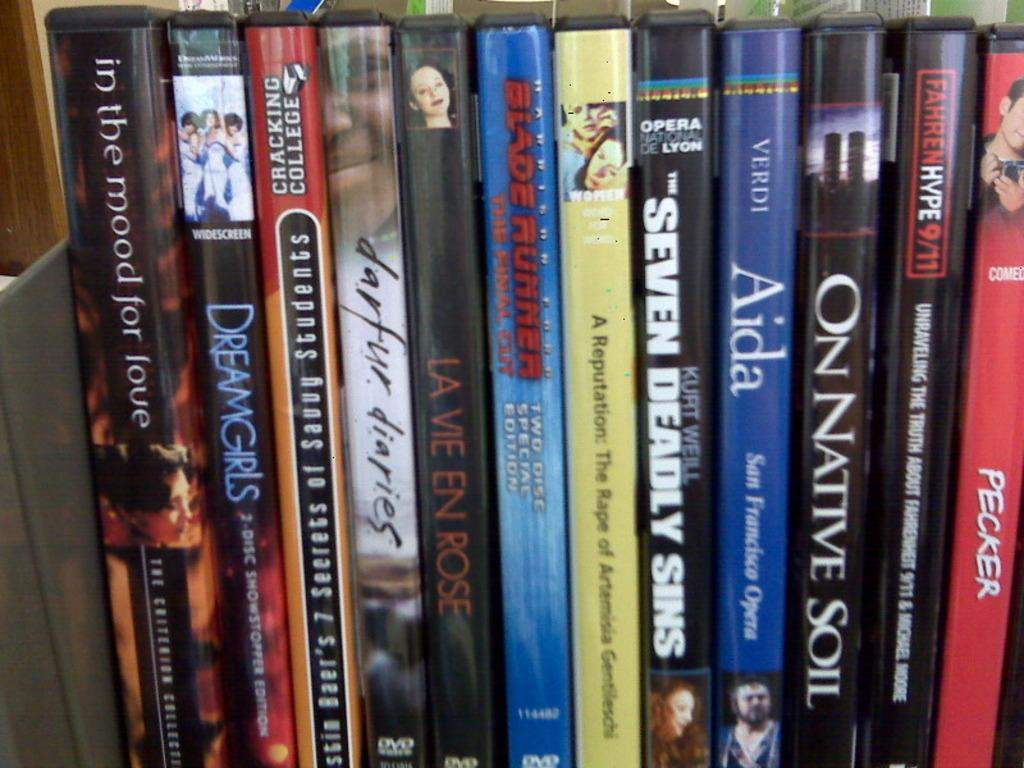Book: (44, 4, 238, 767)
